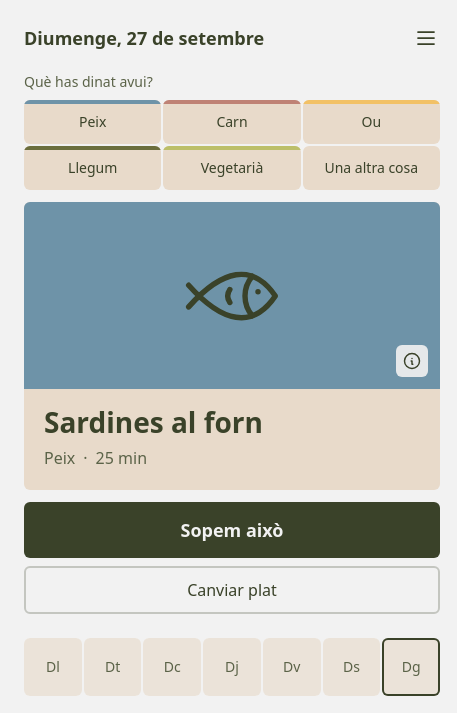
App › tornar del swipe no canvia res
Click the button "Canviar plat": click(232, 590) [24,566,440,614]
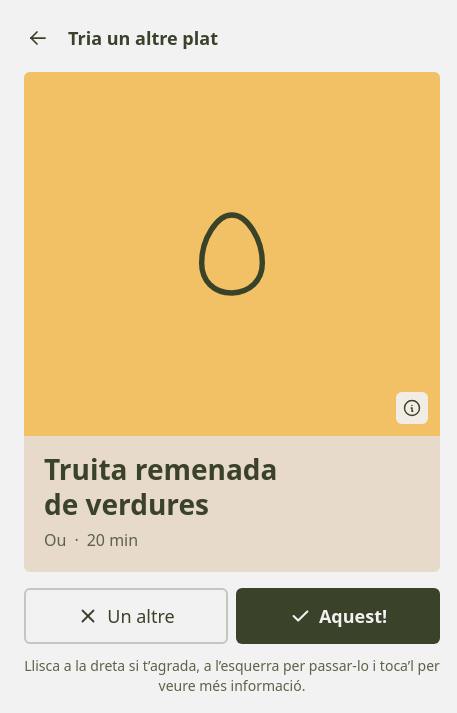
Click the button named "Tornar": click(38, 38) [16,16,60,60]
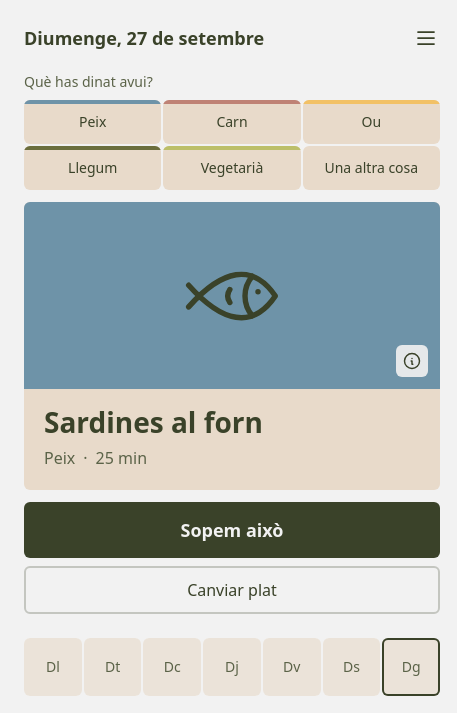
Check: the button "Sopem això" is shown, box [24,502,440,558]
